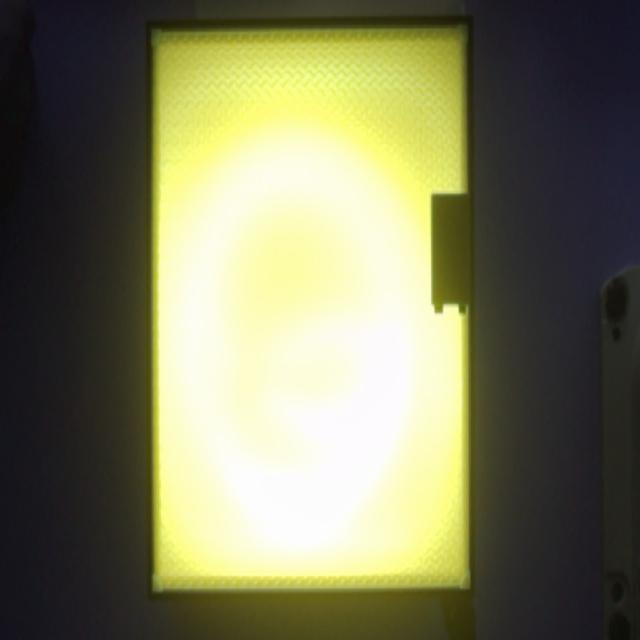bateria: (431, 193, 470, 313)
mesa: (146, 16, 476, 600)
